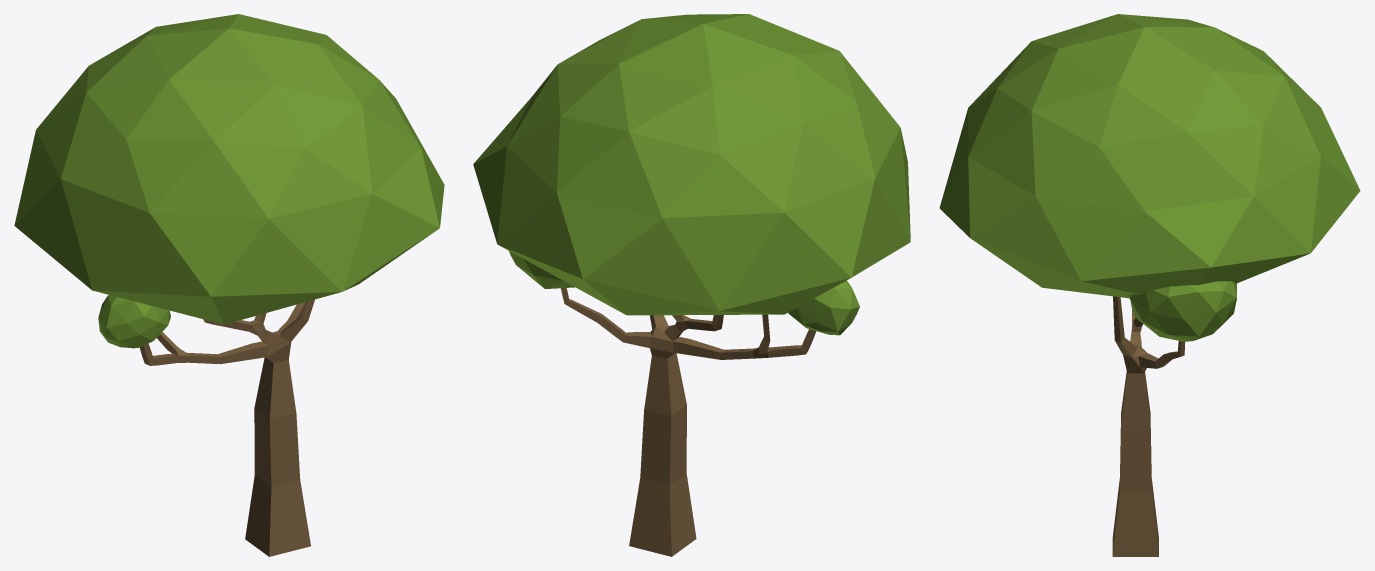
The model's file is AppleTree2.fbx.
3 views of the same model, side by side, from view 1: azimuth 30°, elevation 25°; view 2: azimuth 150°, elevation 25°; view 3: azimuth 270°, elevation 25° (orthographic). The views are drawn at different scales.
Visible parts, largest first — view 1: AppleTree2Foliage, AppleTree2; view 2: AppleTree2Foliage, AppleTree2; view 3: AppleTree2Foliage, AppleTree2.
Boxes of the visible parts, bbox=[...] form: AppleTree2Foliage: bbox=[14, 14, 444, 348]; AppleTree2: bbox=[139, 299, 314, 556]; AppleTree2Foliage: bbox=[473, 14, 910, 335]; AppleTree2: bbox=[561, 288, 816, 556]; AppleTree2Foliage: bbox=[939, 14, 1360, 341]; AppleTree2: bbox=[1112, 296, 1185, 556].
Size of the model in its own units: 4.5 by 6.06 by 4.62.
